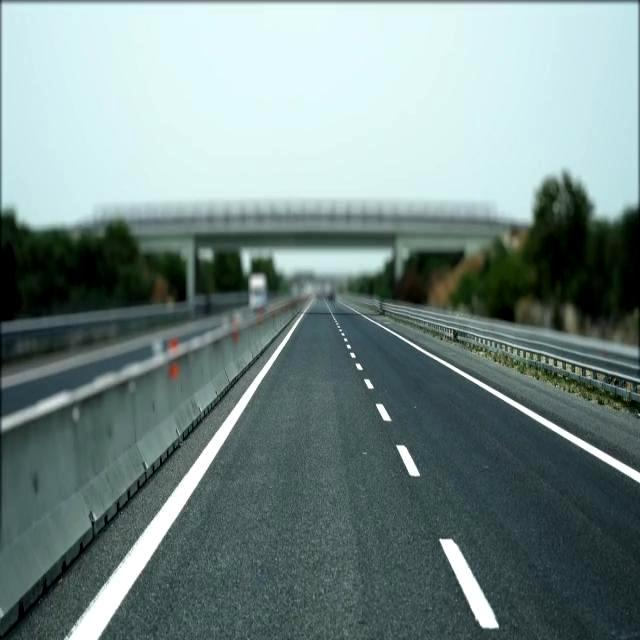lane: (65, 300, 312, 639), (352, 311, 640, 484), (440, 539, 499, 629), (377, 404, 391, 421)
road: (101, 301, 639, 639), (4, 333, 284, 639)
